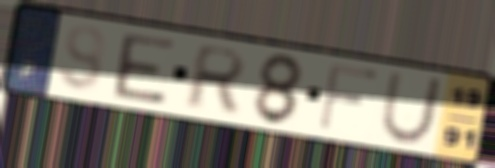8: (251, 51, 307, 128)
9: (57, 24, 110, 94)
E: (111, 31, 178, 108)
F: (315, 60, 384, 134)
R: (180, 42, 251, 115)
U: (377, 70, 447, 147)
